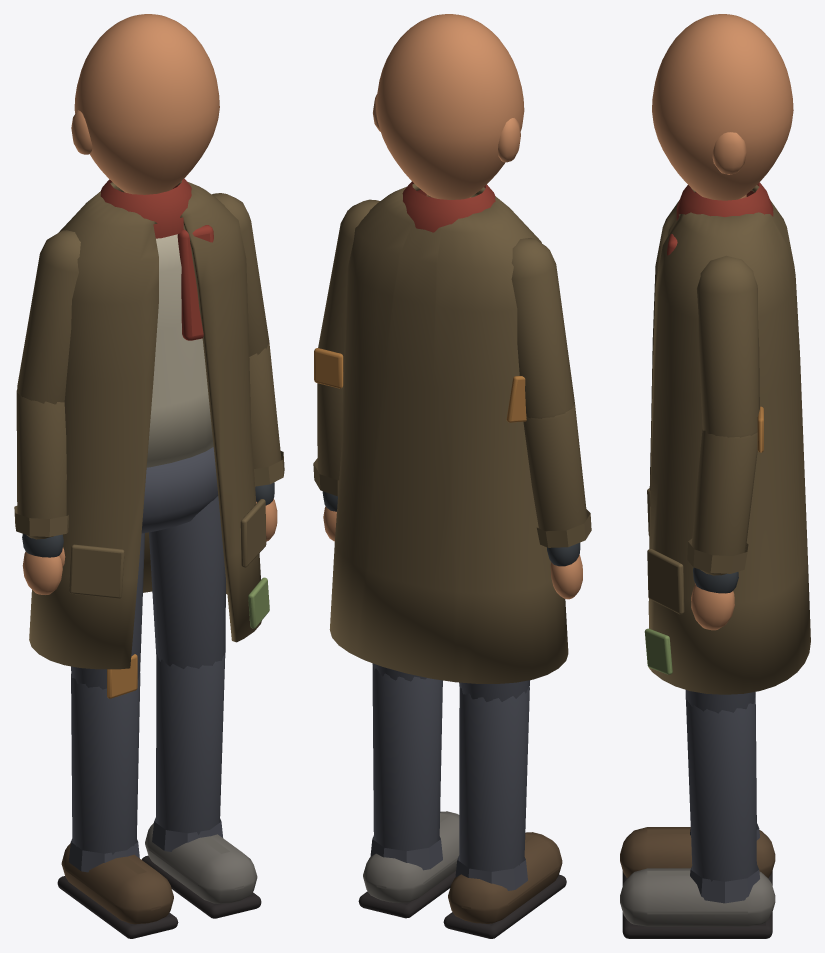
Rendered from body_male.fbx.
3 views of the same model, side by side, from view 1: azimuth 30°, elevation 25°; view 2: azimuth 150°, elevation 25°; view 3: azimuth 270°, elevation 25° (orthographic).
Parts seen in each view (by area): view 1: body_male; view 2: body_male; view 3: body_male.
Boxes of the visible parts, x1=… form: body_male: x1=14, y1=14, x2=284, y2=938; body_male: x1=313, y1=14, x2=591, y2=938; body_male: x1=620, y1=14, x2=810, y2=938.
Bounding box in the file's own units: 0.5691 × 1.8 × 0.3505.
